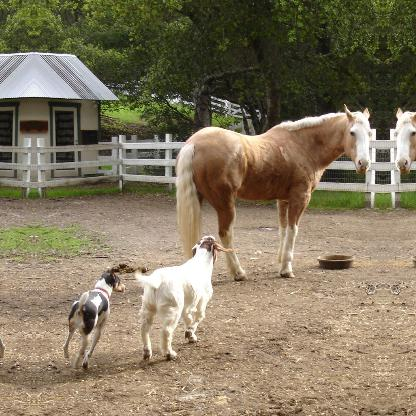Dog: (134, 235, 234, 364), (59, 269, 123, 369)
